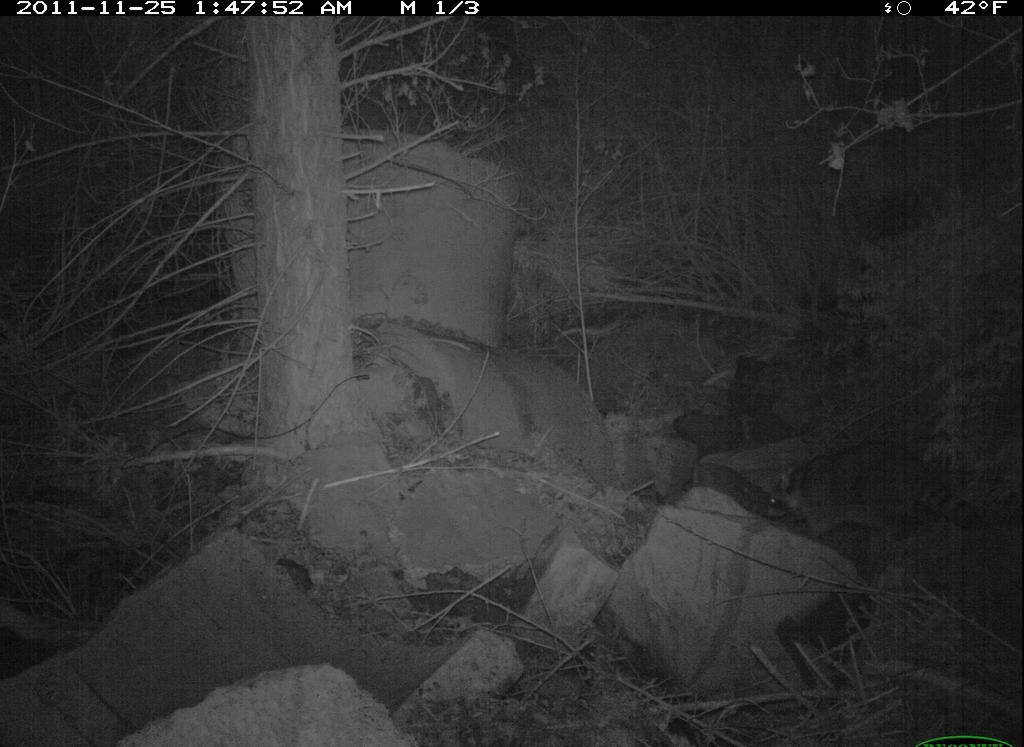raccoon: (765, 432, 1009, 557)
